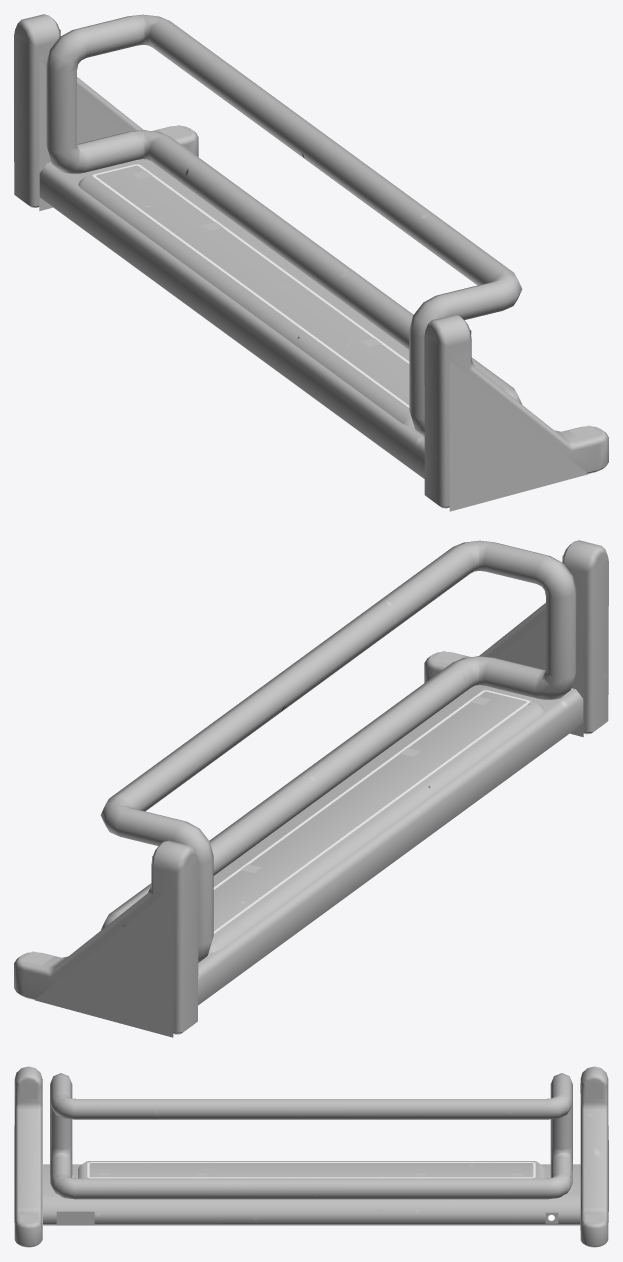
File: SM_IndoorWallFence_Merged.fbx
The picture shows the model from 3 angles, top to bottom: view 1: azimuth 30°, elevation 25°; view 2: azimuth 150°, elevation 25°; view 3: azimuth 270°, elevation 25°; orthographic projection. The views are drawn at different scales.
Parts seen in each view (by area): view 1: SM_IndoorWallFence_Merged_LOD0; view 2: SM_IndoorWallFence_Merged_LOD0; view 3: SM_IndoorWallFence_Merged_LOD0.
Part boxes in pixels (<box>): SM_IndoorWallFence_Merged_LOD0: <box>14,14,608,511</box>; SM_IndoorWallFence_Merged_LOD0: <box>14,540,608,1037</box>; SM_IndoorWallFence_Merged_LOD0: <box>14,1066,608,1247</box>.
Size of the model in its own units: 24.59 by 105 by 24.85.
